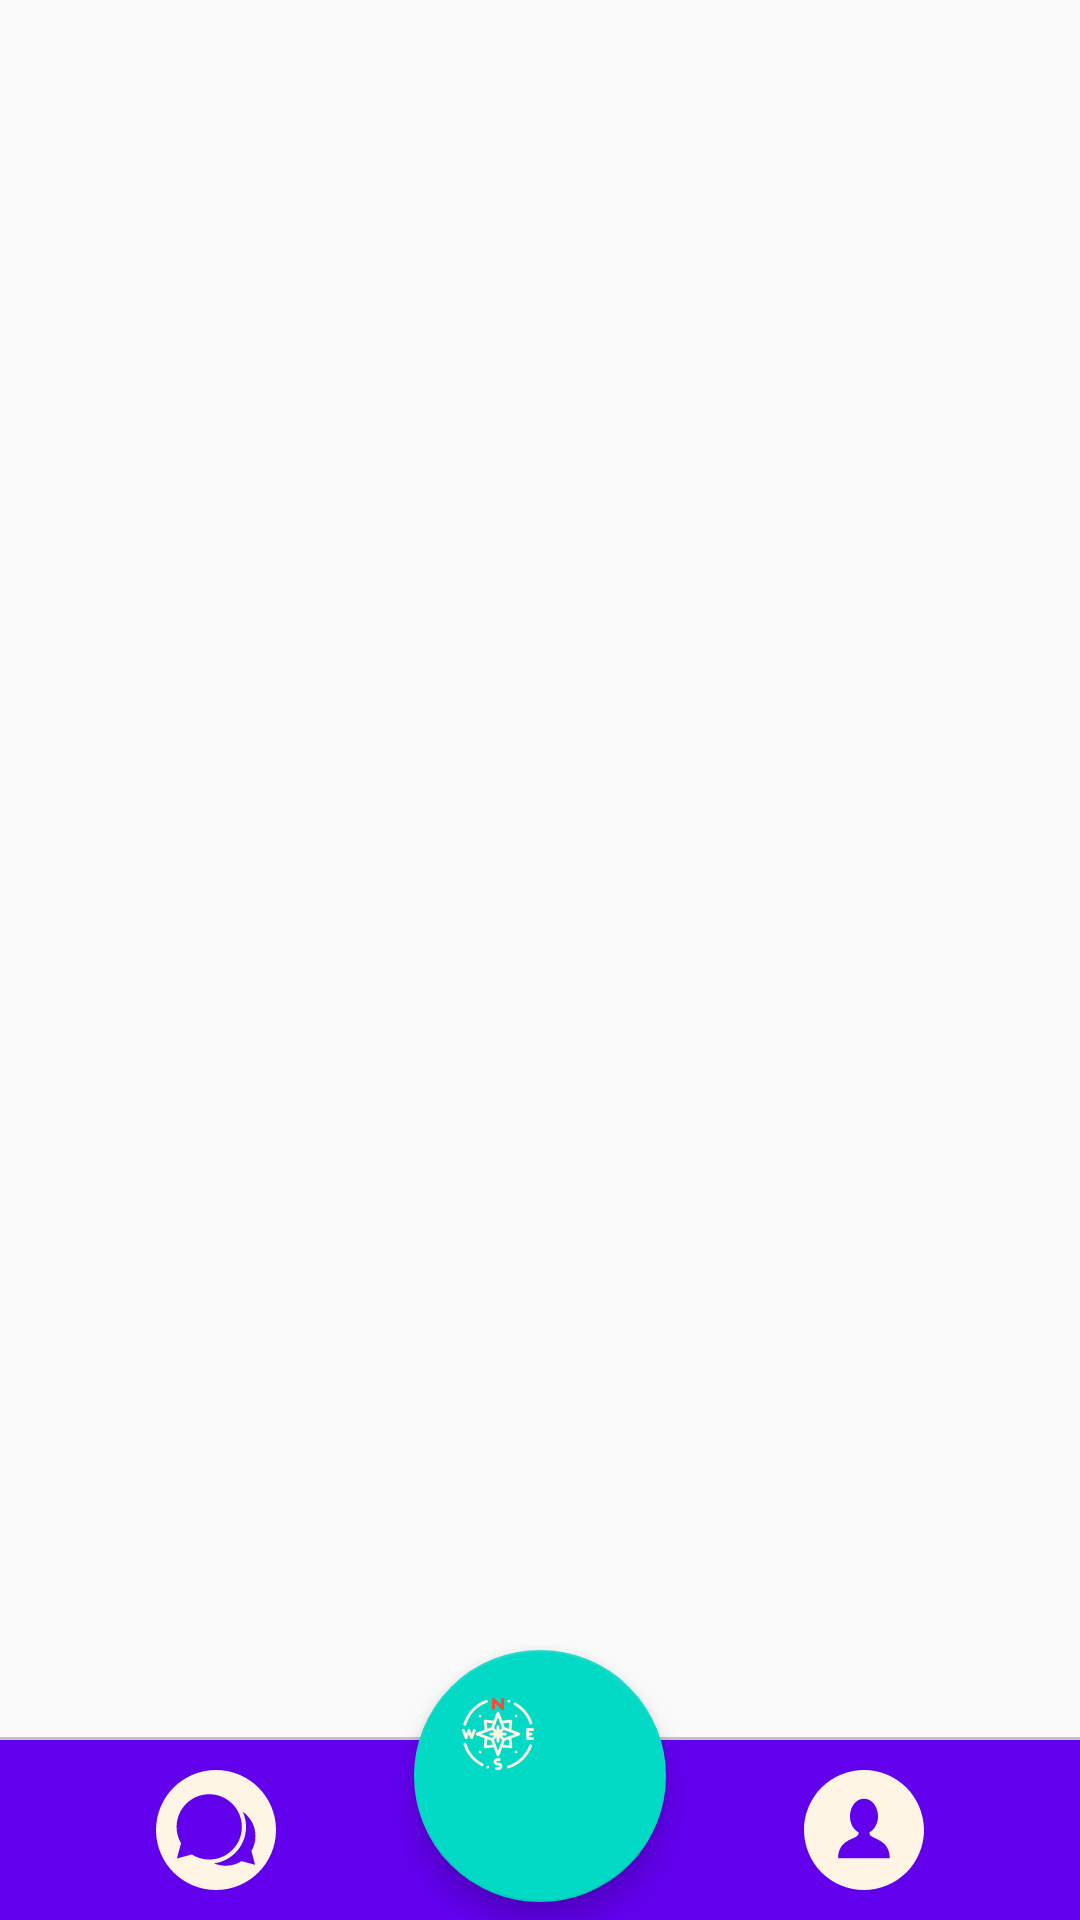

Point at icon controls on the screen. Image size 1080px x 1920px, points as [x,y].
maps: [540,1776]
